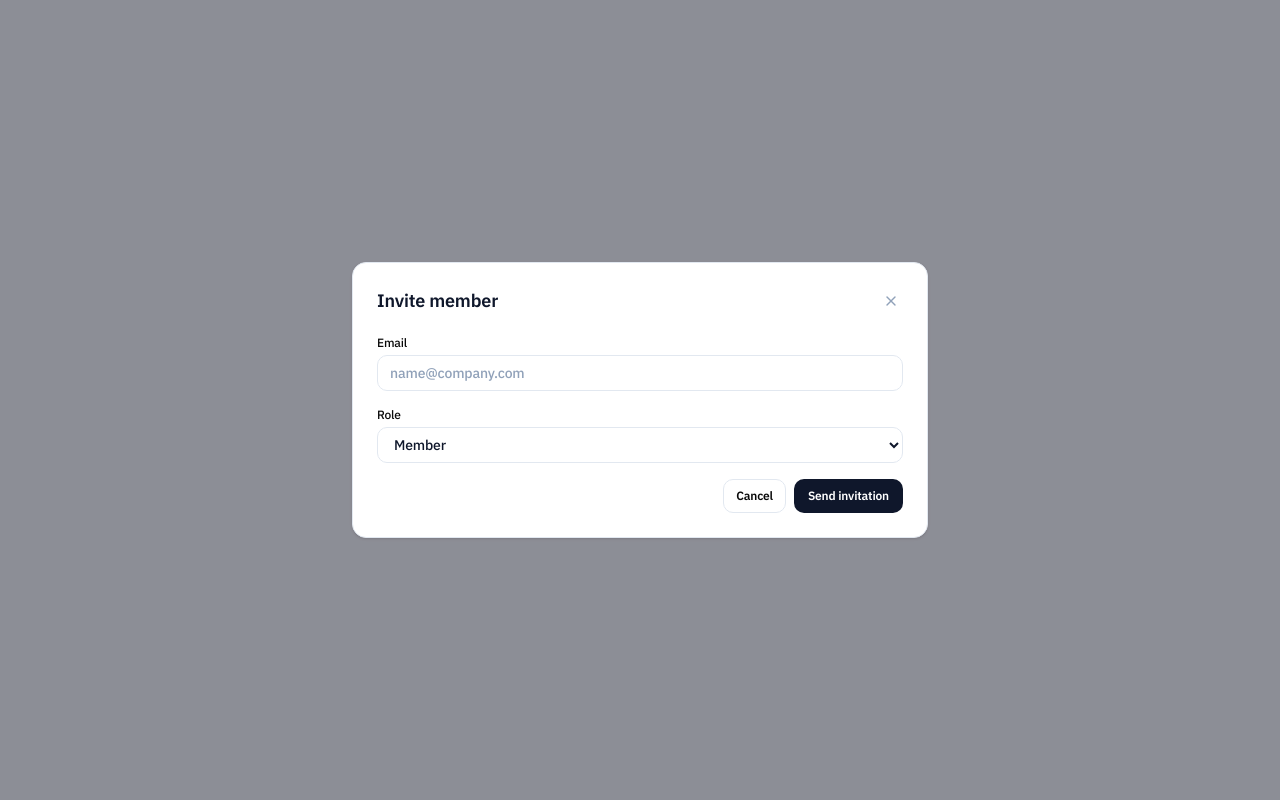
it: InviteMemberDialog › rejects invalid email
Type "not-valid" into the field with placeholder "name@company.com" at (640, 373), box [377, 355, 903, 391]
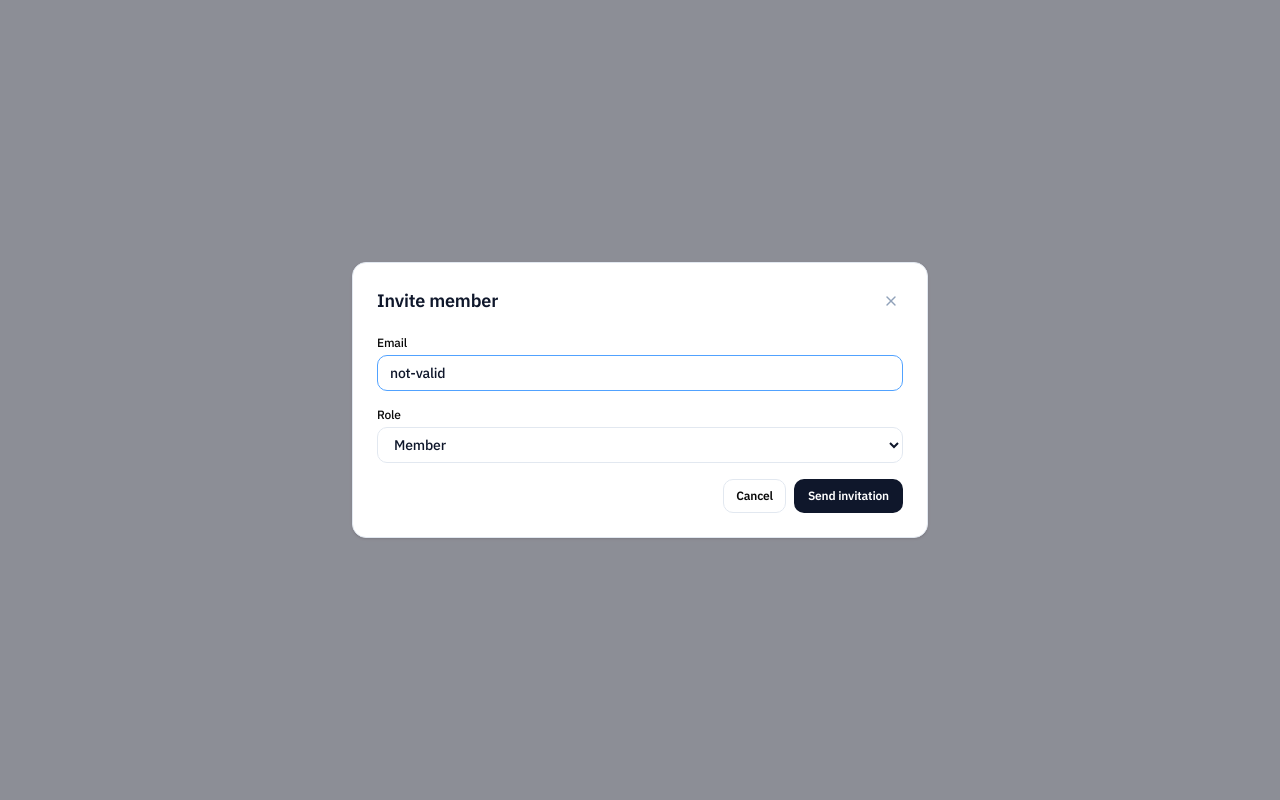
Click the button "Send invitation" at (848, 496), box [794, 479, 903, 513]
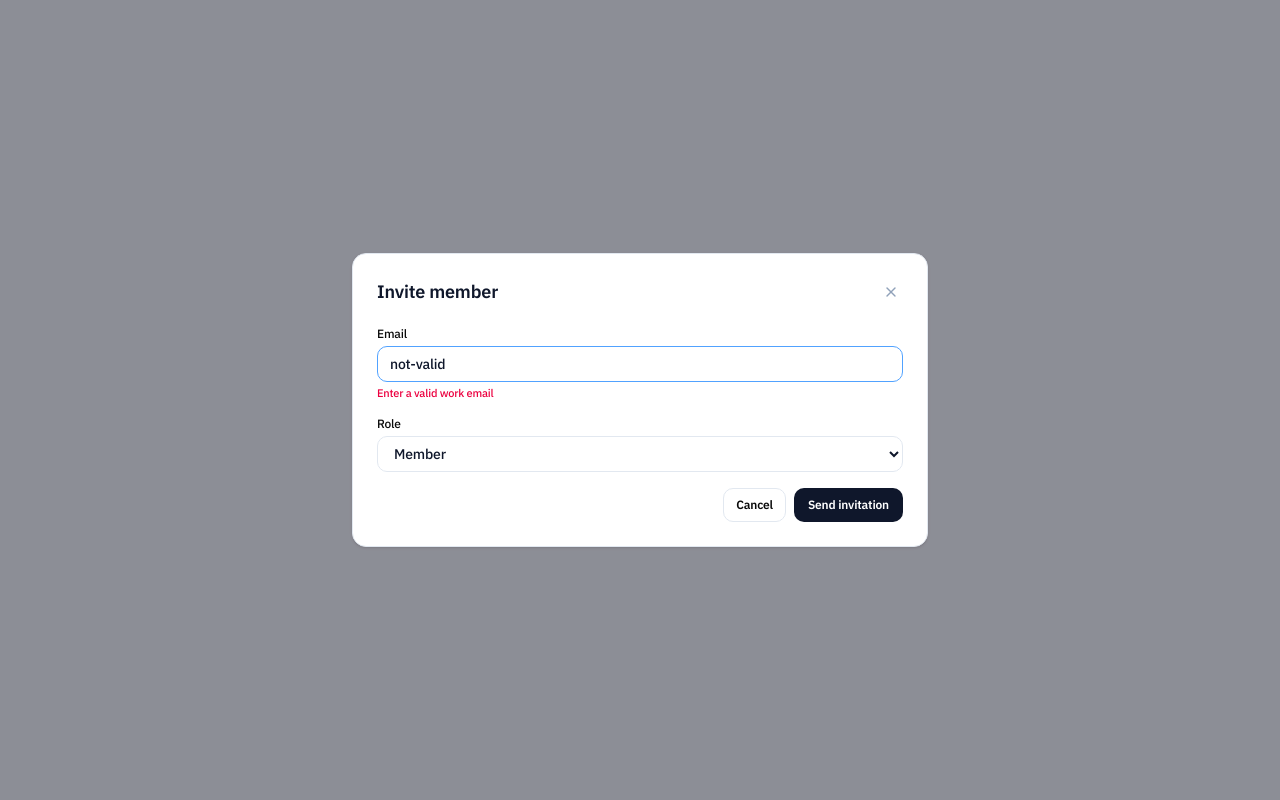
Expected: the text "Enter a valid work email" is shown, [377, 386, 494, 400]
